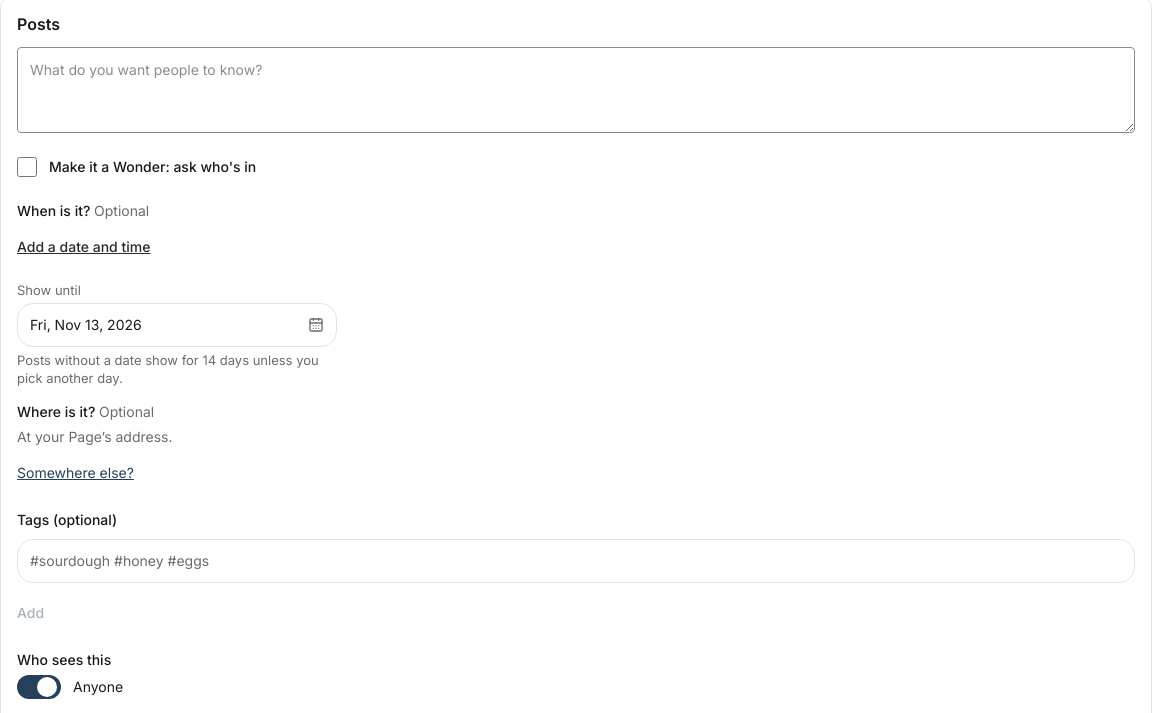
Test: who sees this › says Nobody yet at zero, never "0"
Click the switch with test id "announce-audience-switch".
click(39, 687)  # box [17,675,61,699]
(page scrolled)
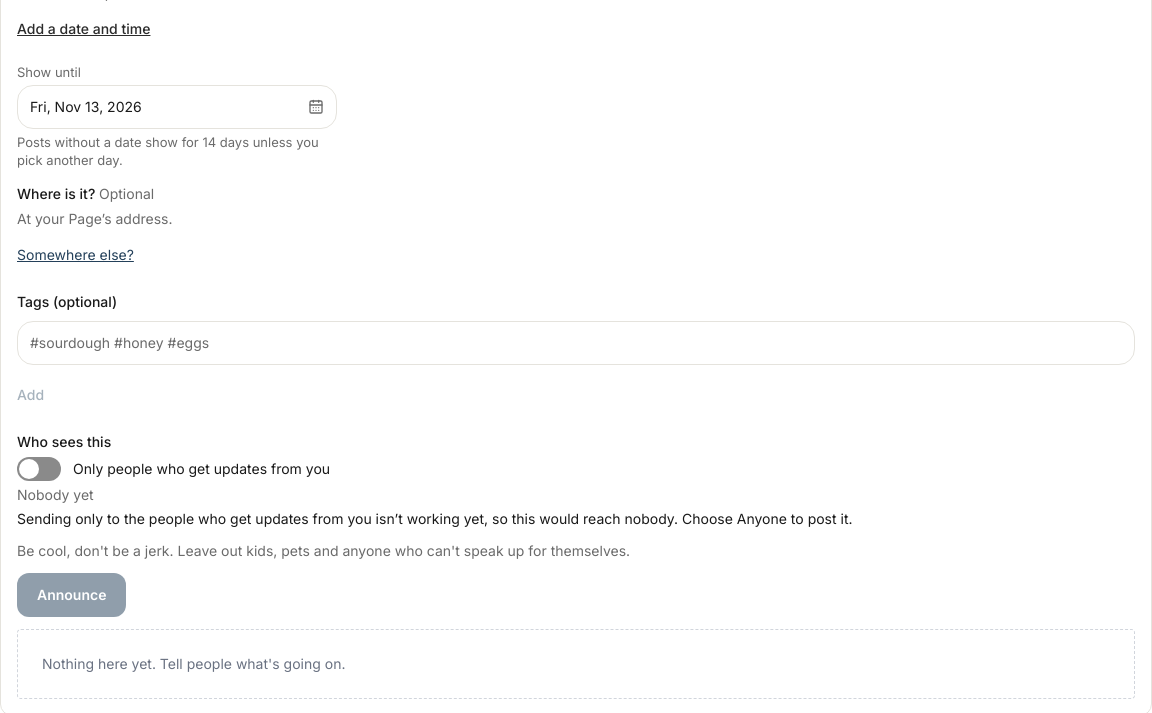
Now the text with test id "announce-audience-count" reads "Nobody yet", box [17,486,94,503]
